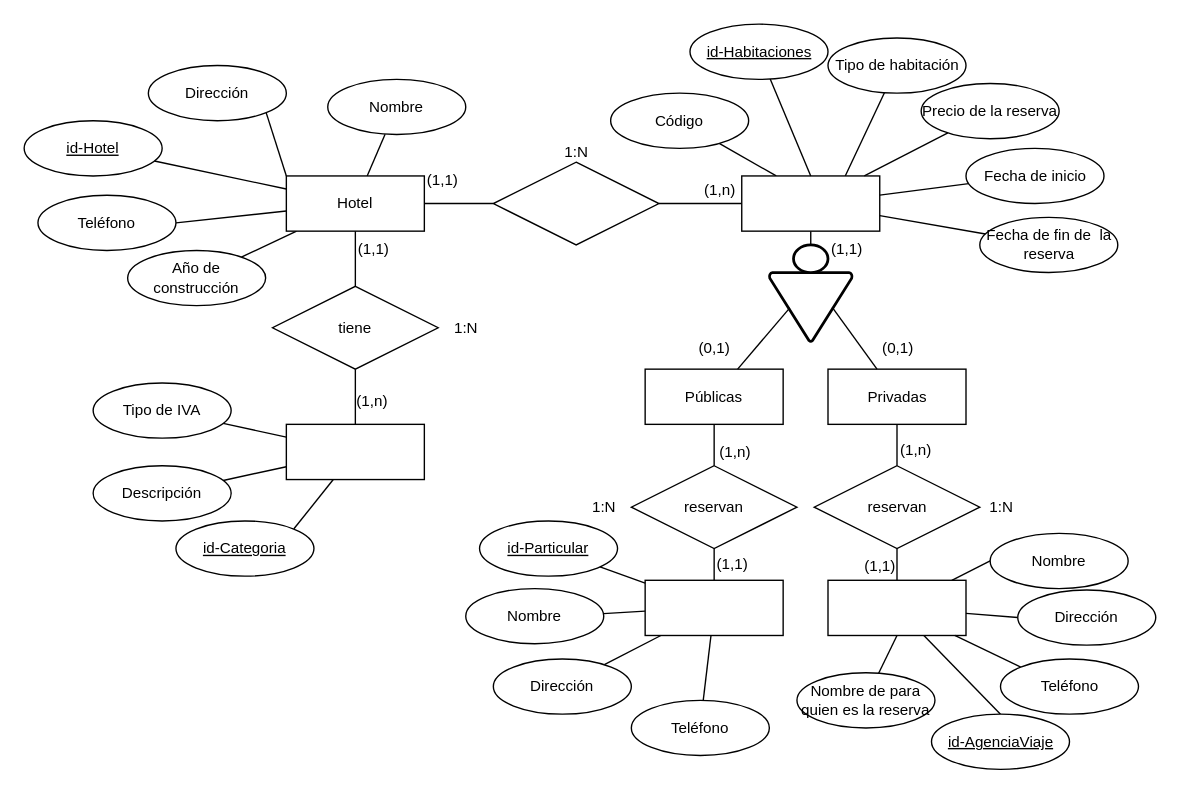
The diagram is 1180 pixels wide and 794 high, and some of its shapes have lost their labels. Here are the shapes that lost their labels. From the top down, the centre of each, then its label:
At point 575,203: "tienen".
At point 810,203: "Habitaciones".
At point 354,451: "Categoría".
At point 713,607: "Particulares".
At point 896,607: "Agencias de viaje".
